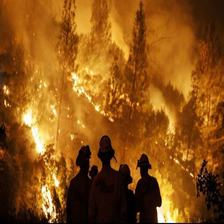fire: (71, 22, 156, 127), (14, 61, 67, 218), (154, 185, 194, 222)
